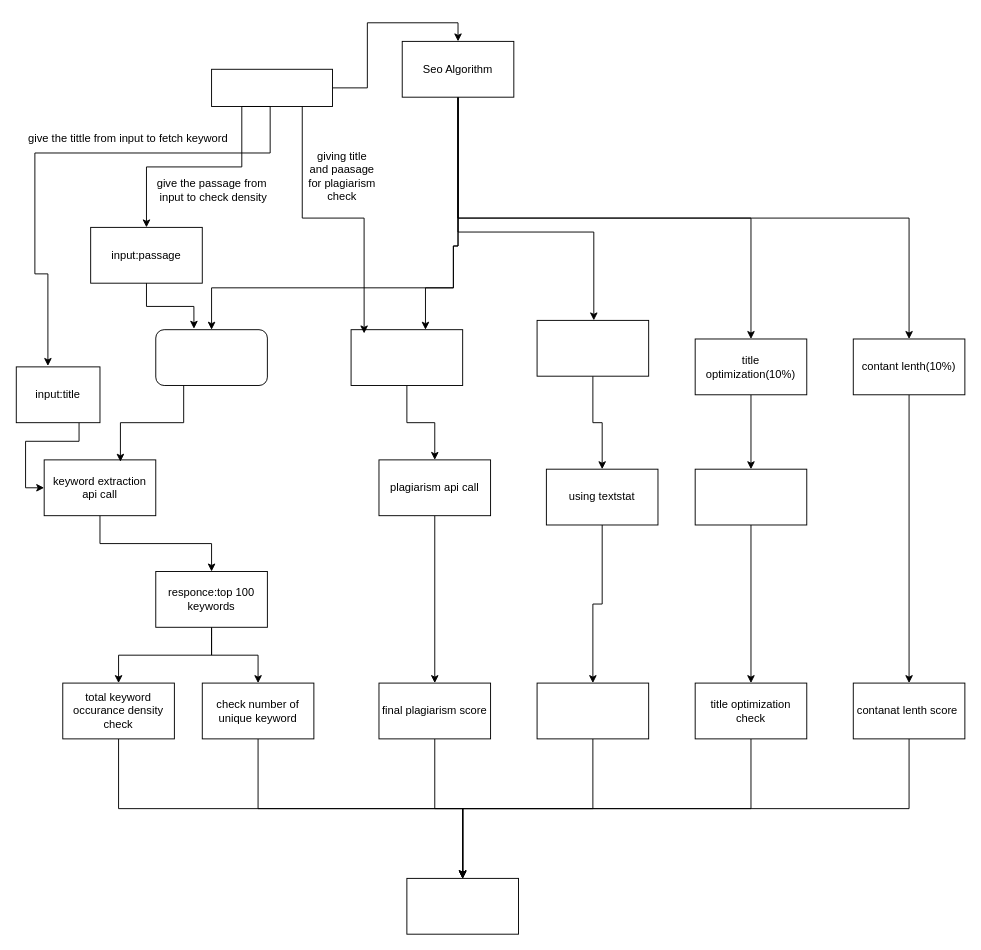
This 981x950 diagram has some shape labels left out. Each missing label, with the box of its shape:
chek the title and title relavance text: (694, 468, 807, 525)
INPUT: TITLE ,PASSAGE: (211, 68, 332, 106)
keyword density(40%): (155, 329, 267, 385)
plagiarism check(20%): (350, 329, 463, 385)
readability score: (536, 682, 649, 739)
readibility(20%): (536, 319, 649, 376)
seo score: (406, 877, 518, 934)
